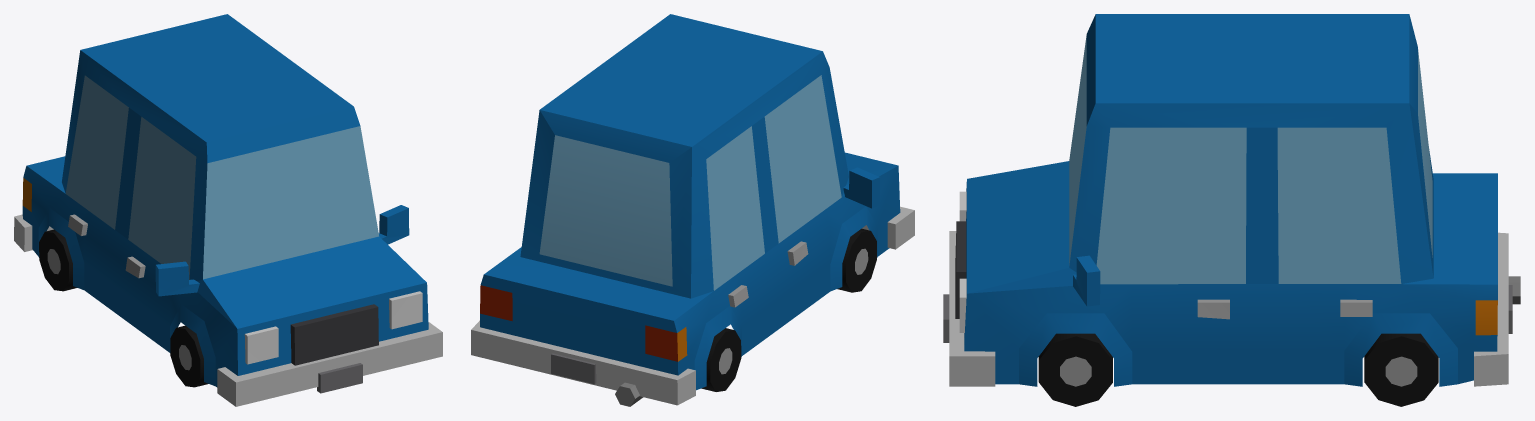
File: Car_05_blue.fbx
3 renders of one model, left to right at view 1: azimuth 30°, elevation 25°; view 2: azimuth 150°, elevation 25°; view 3: azimuth 270°, elevation 25°, orthographic. The views are drawn at different scales.
Visible parts, largest first — view 1: Car_05_blue; view 2: Car_05_blue; view 3: Car_05_blue.
Boxes of the visible parts, left/top/right/bottom form: Car_05_blue: left=14, top=14, right=442, bottom=406; Car_05_blue: left=471, top=14, right=914, bottom=406; Car_05_blue: left=943, top=14, right=1520, bottom=406.
Bounding box in the file's own units: 57.9 × 50.92 × 93.1.
